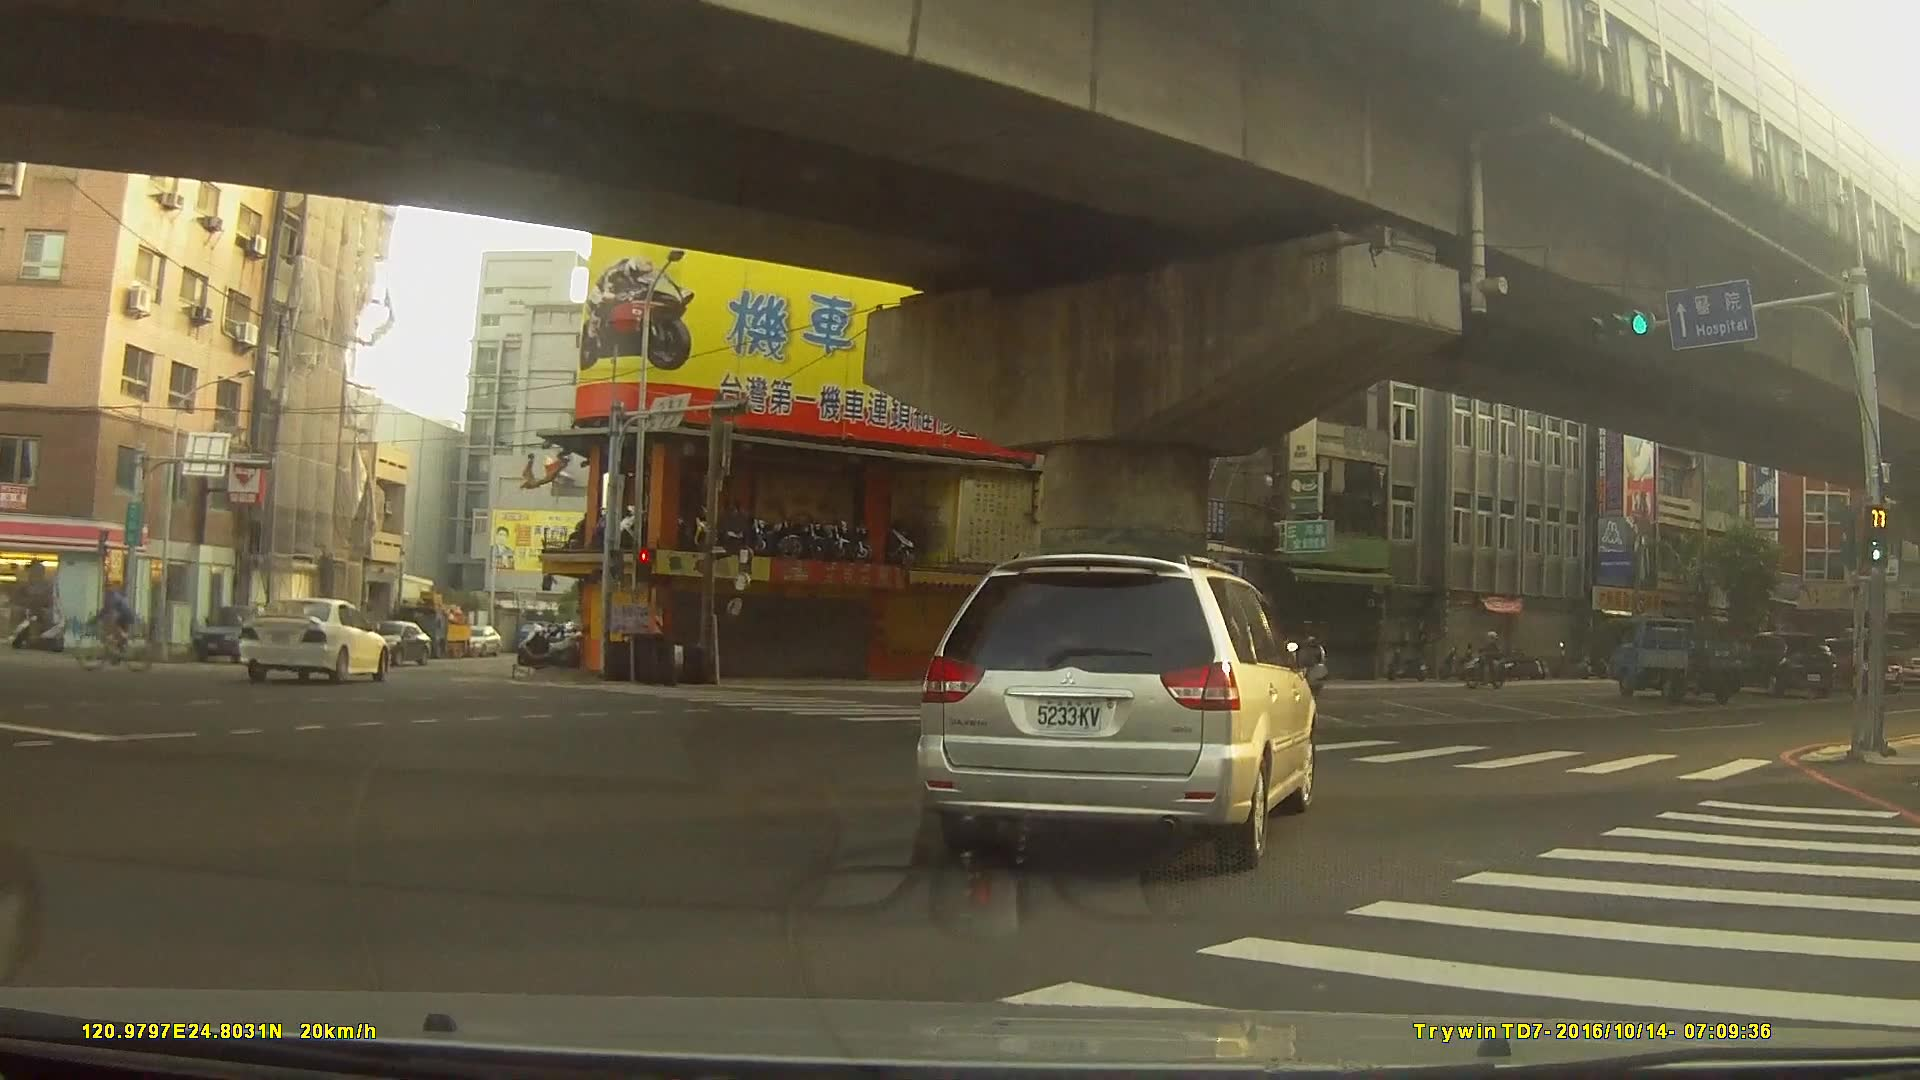rider: (63, 579, 165, 675), (1268, 618, 1327, 700), (1461, 634, 1515, 691)
vehicle: (911, 550, 1316, 864), (236, 595, 390, 683), (1608, 617, 1752, 704), (1723, 630, 1840, 696), (193, 602, 283, 663), (359, 620, 431, 665), (458, 626, 498, 657)
